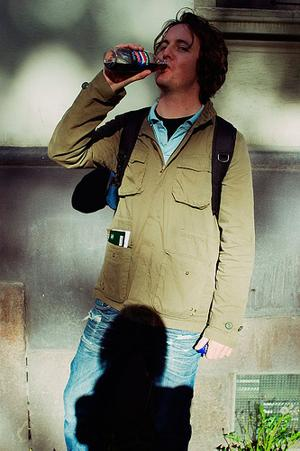person: (46, 8, 258, 451)
